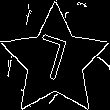L_S: (33, 32, 77, 90)
